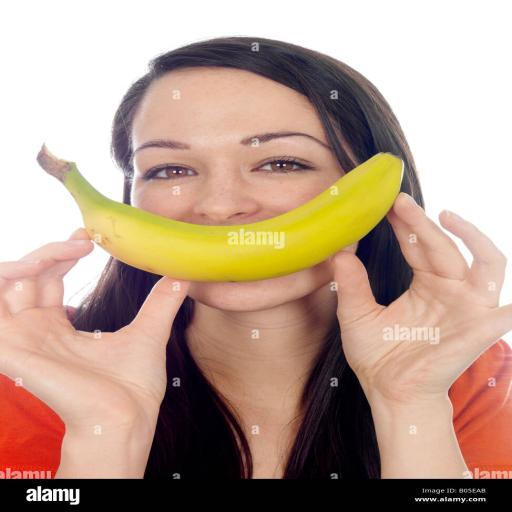banana: (37, 145, 403, 282)
